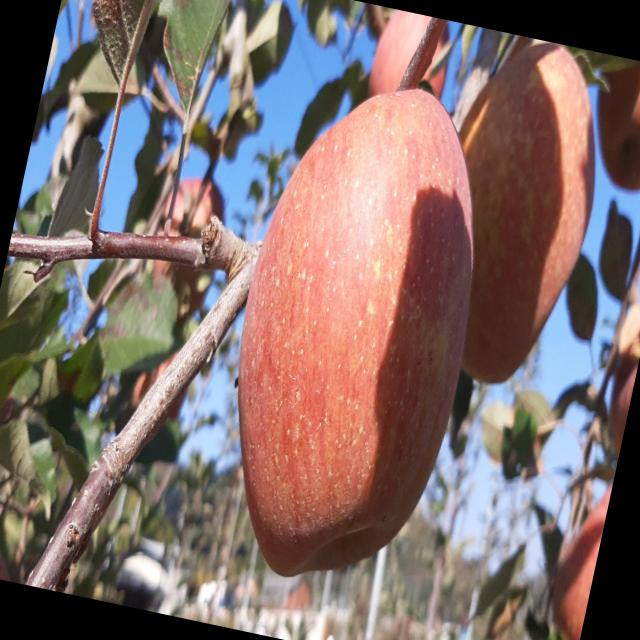fresh: (184, 50, 527, 619)
